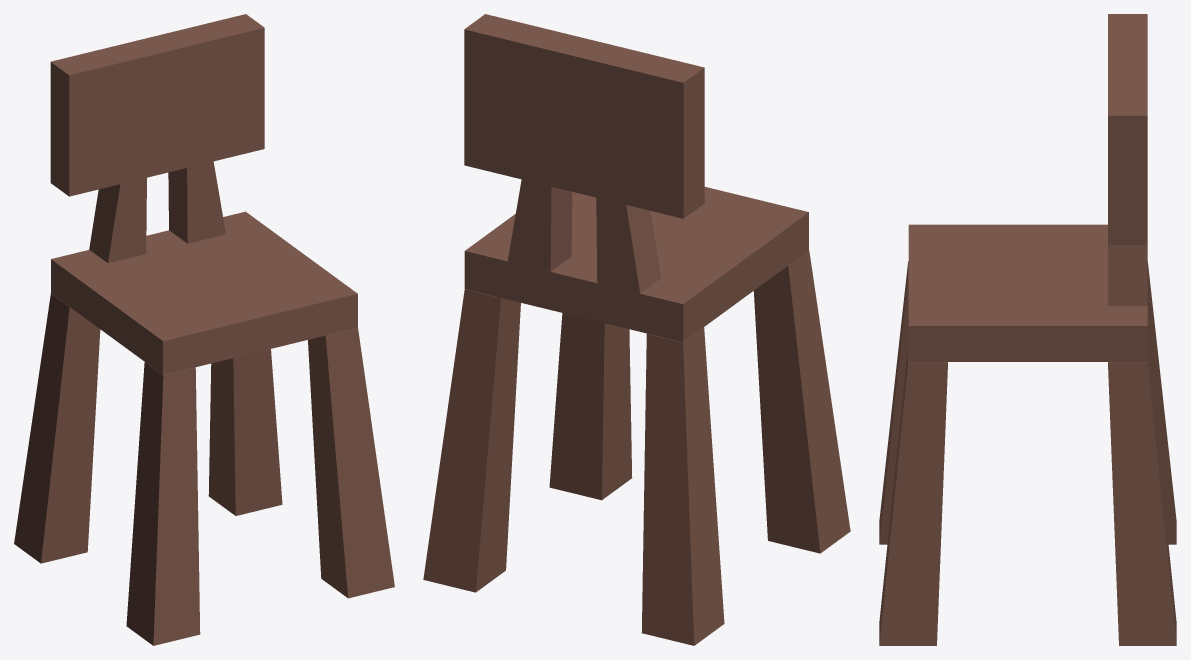
The model's file is chair2.fbx.
3 views of the same model, side by side, from view 1: azimuth 30°, elevation 25°; view 2: azimuth 150°, elevation 25°; view 3: azimuth 270°, elevation 25° (orthographic). The views are drawn at different scales.
Parts seen in each view (by area): view 1: Cube; view 2: Cube; view 3: Cube.
Boxes of the visible parts, x1=… form: Cube: x1=14, y1=14, x2=394, y2=645; Cube: x1=423, y1=14, x2=850, y2=645; Cube: x1=879, y1=14, x2=1176, y2=645.
Bounding box in the file's own units: 298 × 573 × 298.
